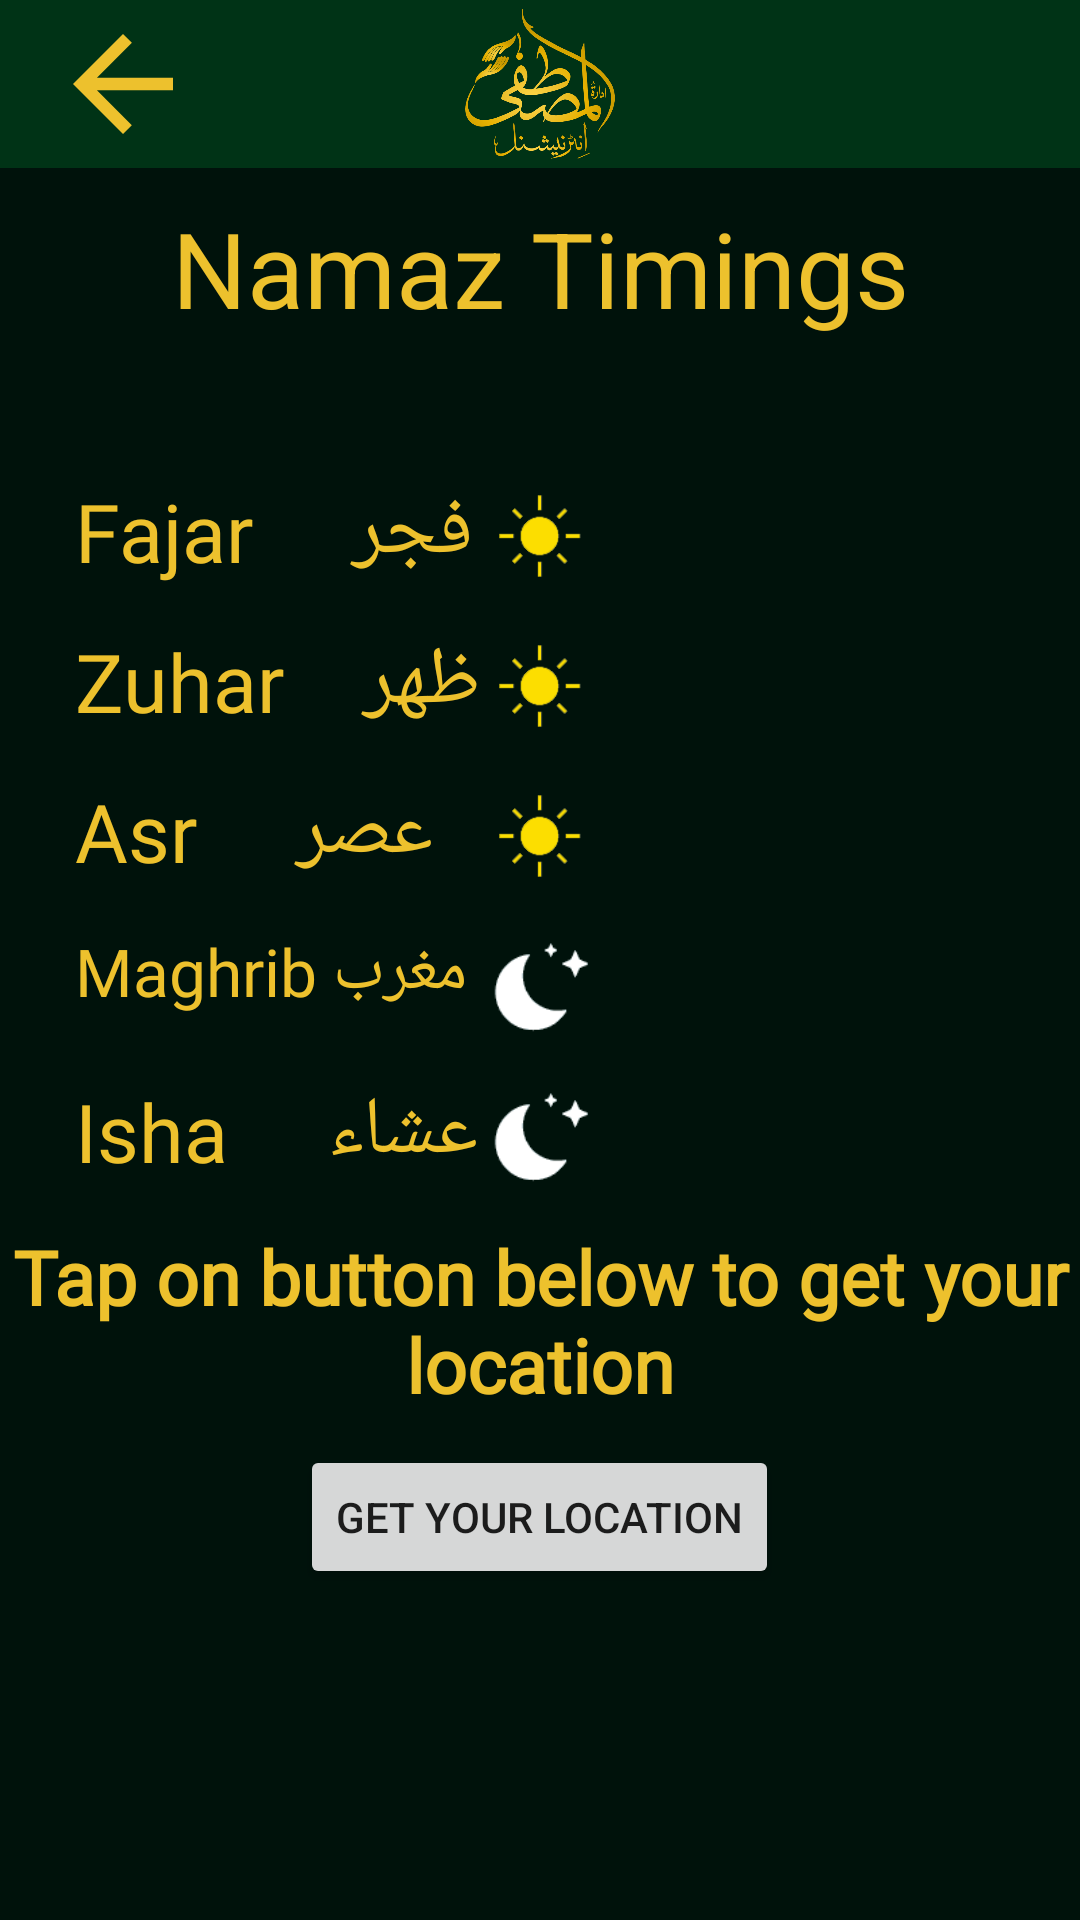

Icon click points for this 1080w x 1920h phone screenshot, format point (x, y):
back: point (123, 84)
night: point (541, 987), point (541, 1137)
sunrise: point (540, 536), point (540, 686), point (540, 836)
